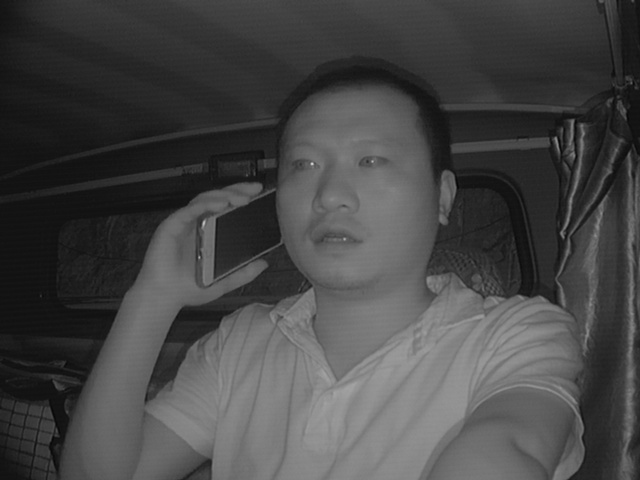hand: (144, 178, 273, 305)
